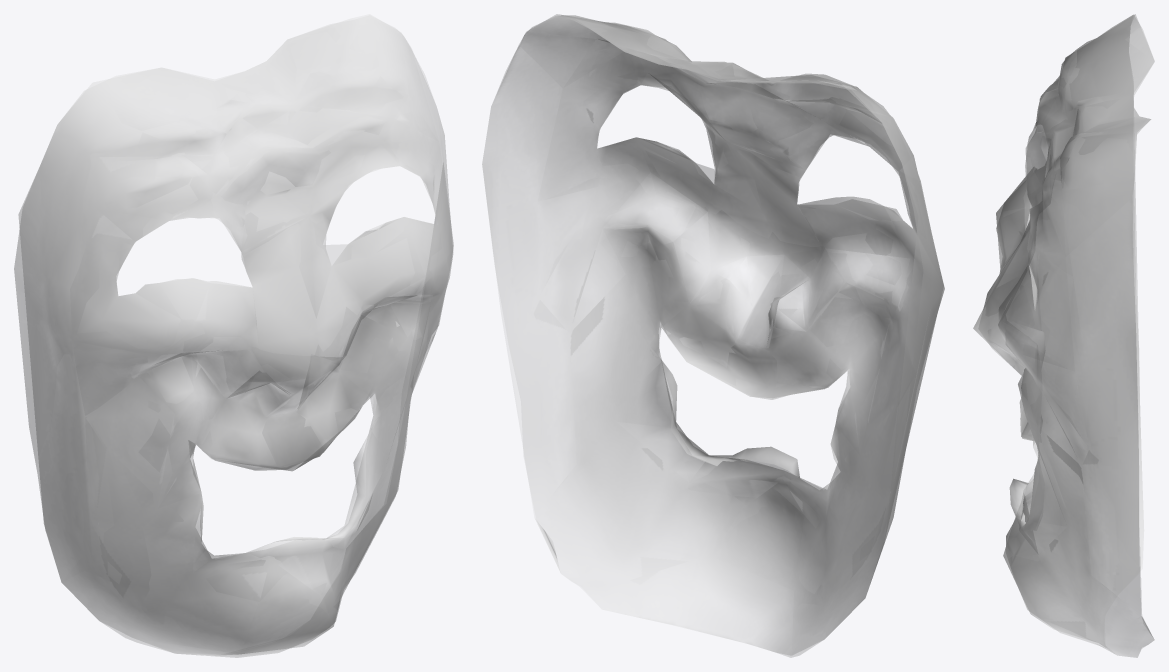
File: mask.gltf
3 renders of one model, left to right at view 1: azimuth 30°, elevation 25°; view 2: azimuth 150°, elevation 25°; view 3: azimuth 270°, elevation 25°, orthographic. The views are drawn at different scales.
Parts seen in each view (by area): view 1: ComedyMaskLOD0; view 2: ComedyMaskLOD0; view 3: ComedyMaskLOD0.
Boxes of the visible parts, x1=… form: ComedyMaskLOD0: x1=14, y1=14, x2=453, y2=657; ComedyMaskLOD0: x1=482, y1=14, x2=944, y2=657; ComedyMaskLOD0: x1=973, y1=14, x2=1154, y2=657.
Size of the model in its own units: 2.67 by 3.49 by 1.04.
1 material, 1 textured.
